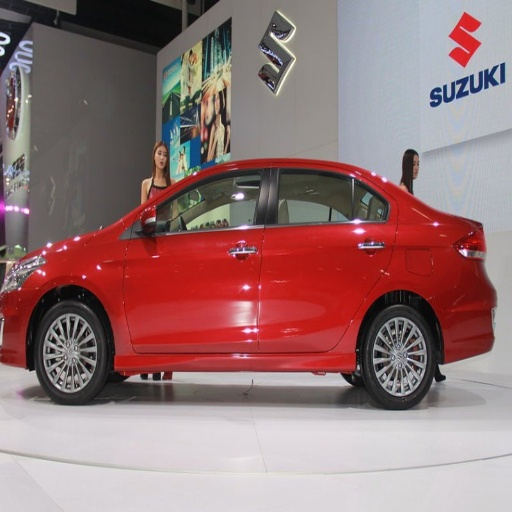back_left_door: (259, 165, 396, 350)
front_left_door: (124, 165, 275, 350)
